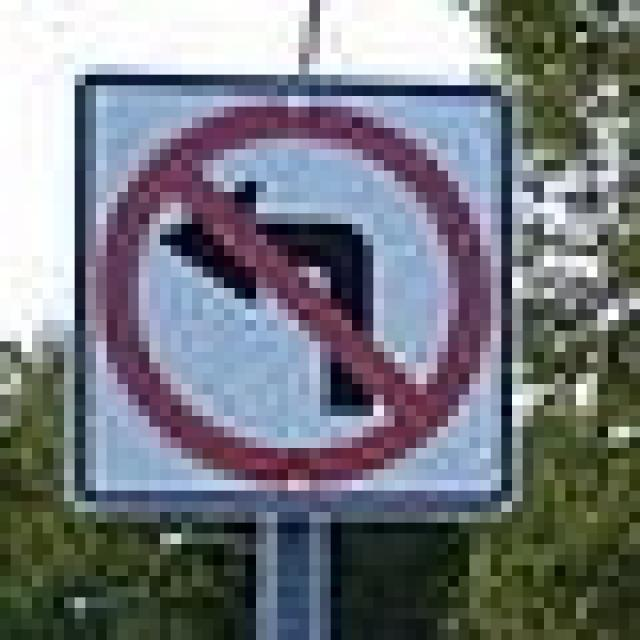left turn prohibited: (85, 87, 500, 493)
